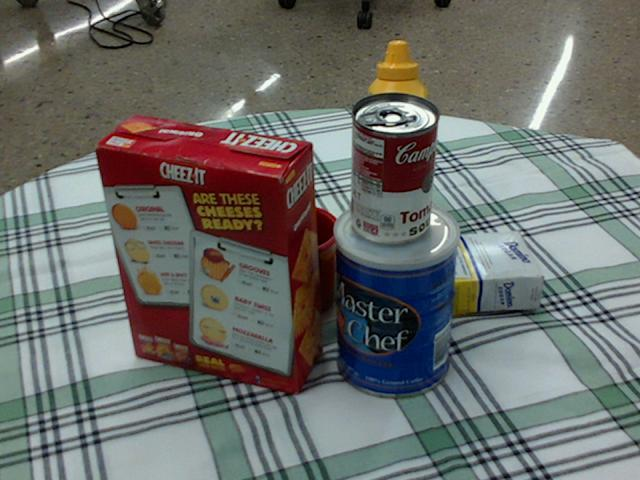cracker_box: (90, 117, 322, 392)
gelatin_box: (347, 190, 448, 258)
master_chef_can: (334, 197, 459, 397)
mug: (241, 205, 339, 320)
mustard_bottle: (367, 42, 426, 243)
potted_meat_can: (158, 218, 248, 306)
sugar_box: (349, 228, 544, 321)
tomato_soup_can: (348, 92, 437, 243)
tuna_fish_can: (165, 186, 253, 259)
